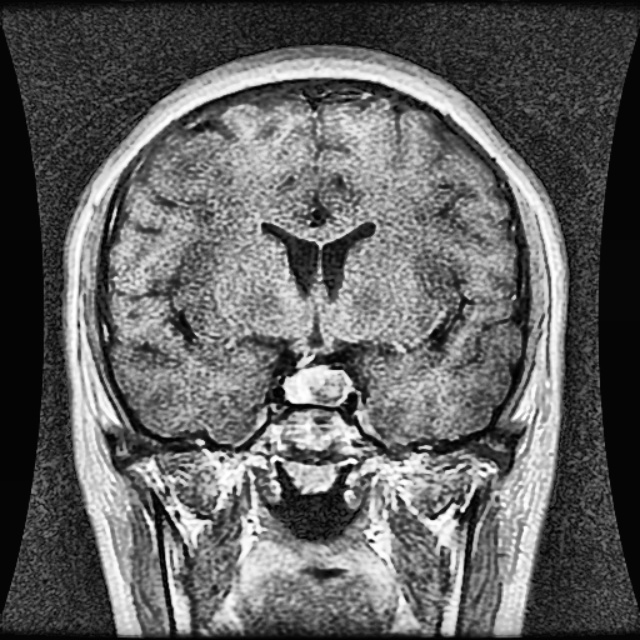Pituitary: (287, 370, 347, 403)
